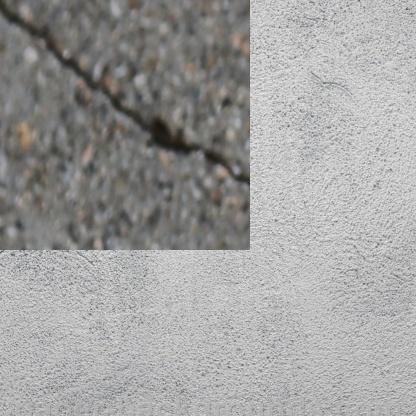Cracks: (0, 0, 231, 176)
